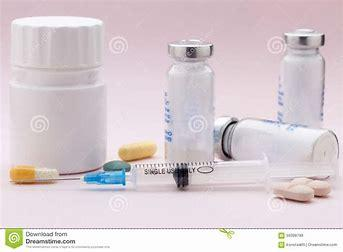Syringe: (222, 107, 340, 180), (162, 37, 215, 161), (278, 26, 330, 130)
